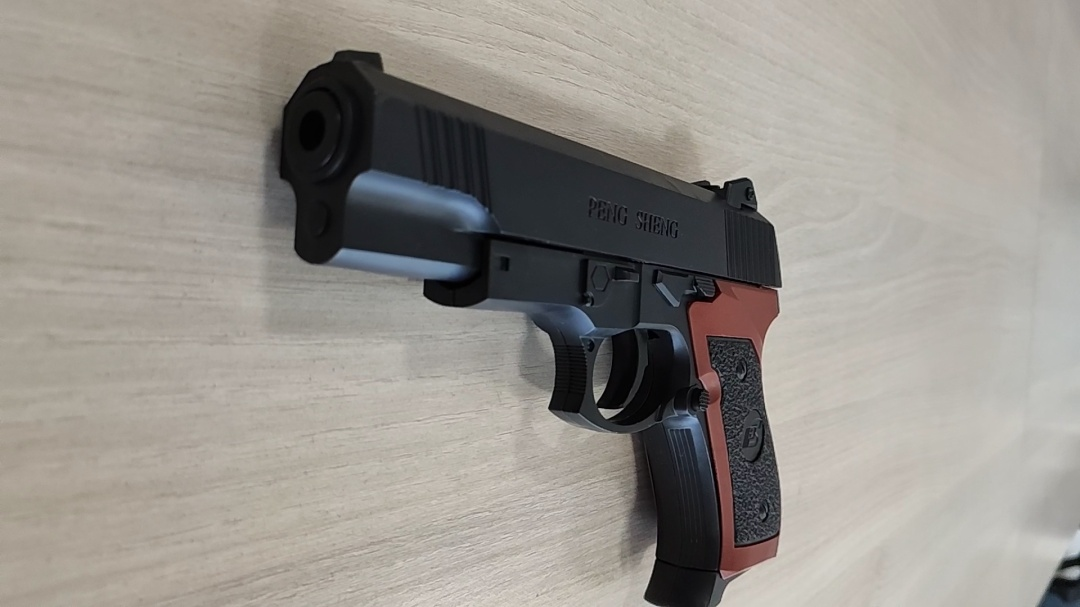gunw: (273, 50, 782, 606)
